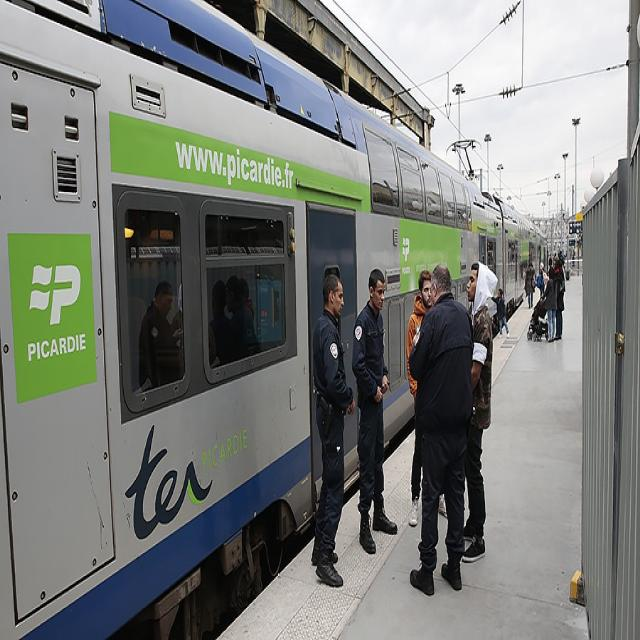body: (407, 264, 475, 598), (137, 273, 285, 389), (304, 270, 357, 591), (349, 264, 400, 558), (460, 260, 500, 563), (403, 266, 448, 530), (540, 265, 558, 344), (552, 256, 566, 342), (490, 286, 511, 341), (524, 260, 538, 310), (548, 250, 566, 276), (538, 260, 546, 298)
